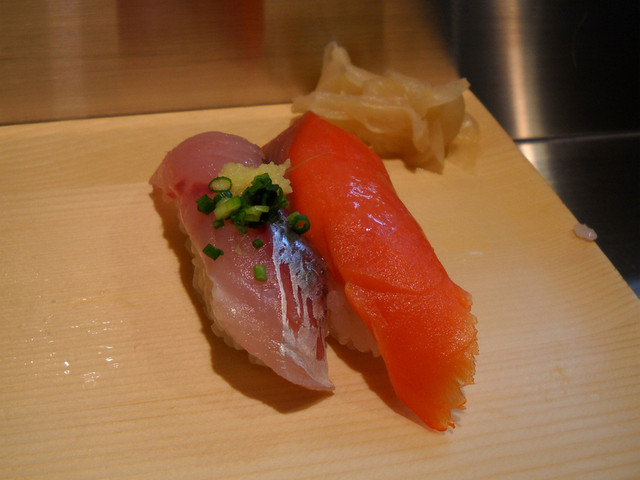salmon: (265, 109, 481, 428)
